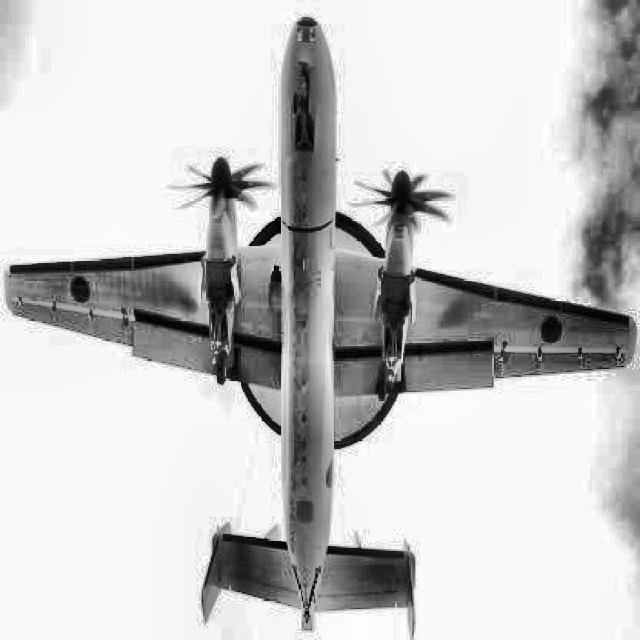E2: (5, 16, 637, 639)
